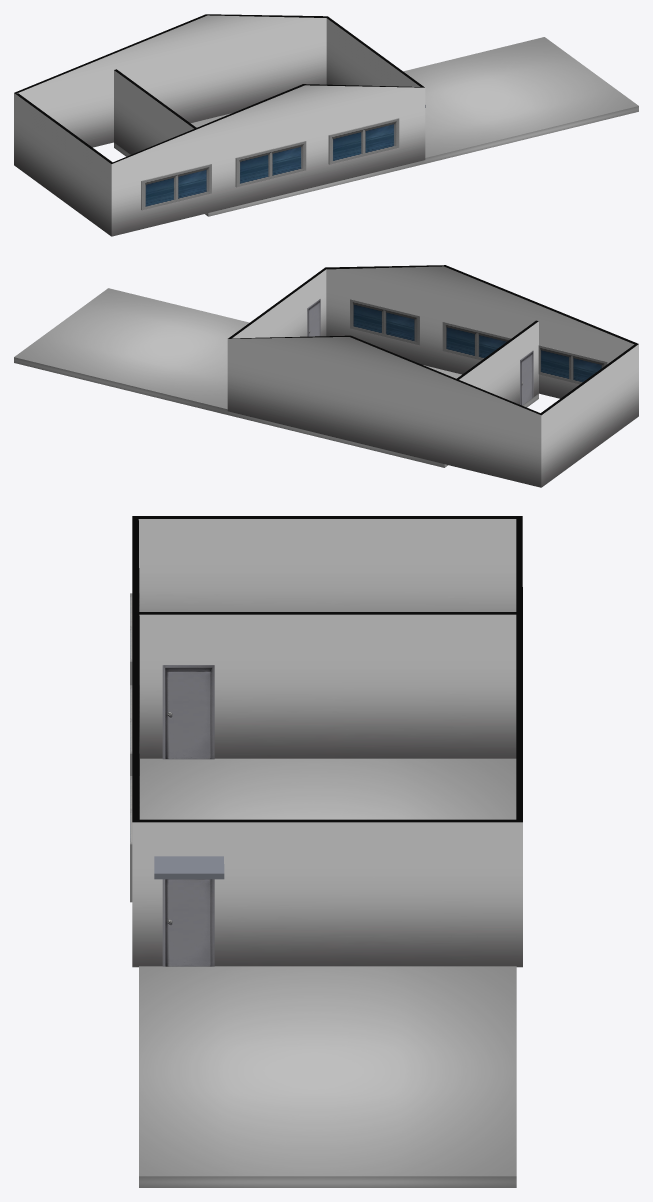
File: soulbrain_UP-4-2F.glb
3 renders of one model, top to bottom at view 1: azimuth 30°, elevation 25°; view 2: azimuth 150°, elevation 25°; view 3: azimuth 270°, elevation 25°, orthographic. The views are drawn at different scales.
Parts seen in each view (by area): view 1: Line057, Line056, UP-4-2F; view 2: Line057, Line056, UP-4-2F; view 3: Line057, Line056, UP-4-2F.
Part boxes in pixels (x1=…): Line057: x1=14, y1=14, x2=425, y2=236; Line056: x1=114, y1=37, x2=638, y2=216; UP-4-2F: x1=141, y1=105, x2=425, y2=210; Line057: x1=227, y1=265, x2=638, y2=487; Line056: x1=14, y1=288, x2=538, y2=467; UP-4-2F: x1=307, y1=299, x2=607, y2=405; Line057: x1=132, y1=516, x2=522, y2=967; Line056: x1=139, y1=758, x2=516, y2=1187; UP-4-2F: x1=130, y1=593, x2=224, y2=966.
Bounding box in the file's own units: 19.1 × 3.78 × 6.14.
Materials: 6 (5 with a texture image).
